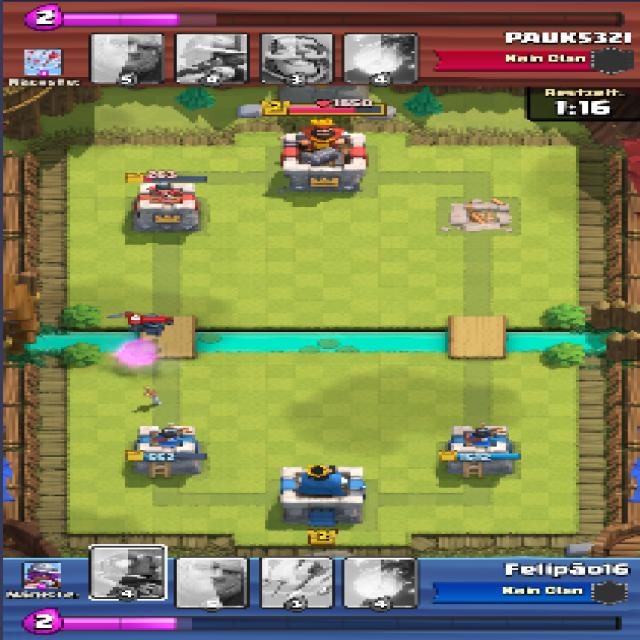Enemy-MiniPEKKA: (126, 315, 176, 337)
